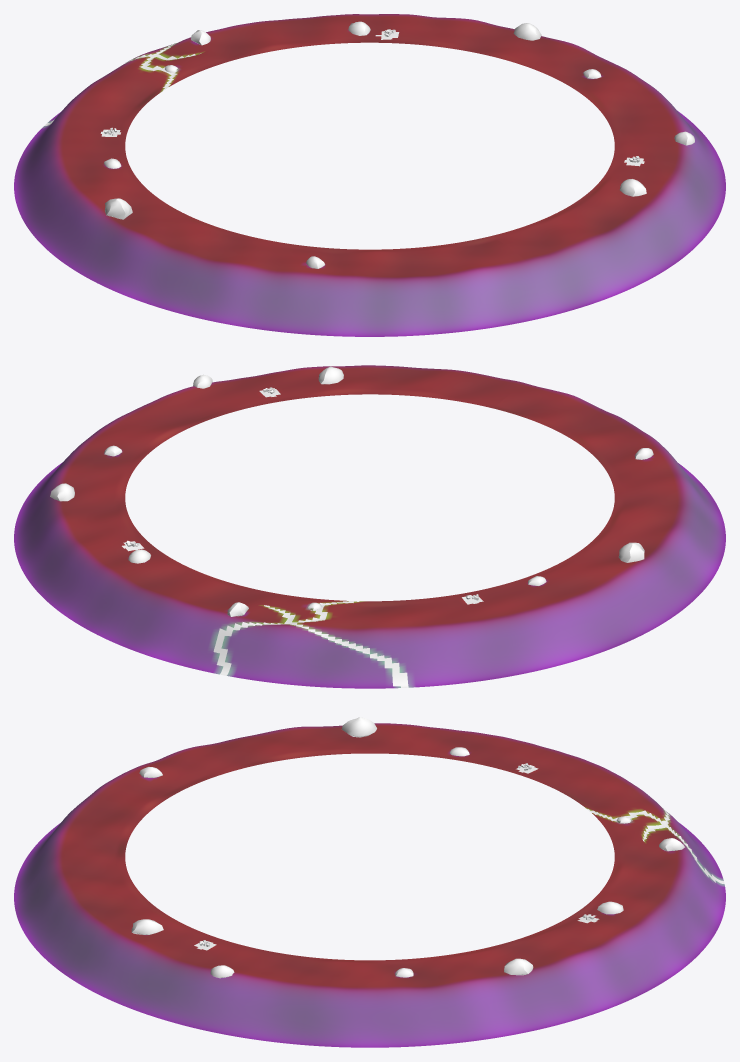
Rendered from outer-terrain.glb.
3 renders of one model, top to bottom at view 1: azimuth 30°, elevation 25°; view 2: azimuth 150°, elevation 25°; view 3: azimuth 270°, elevation 25°, orthographic.
Visible parts, largest first — view 1: outer-terrain; view 2: outer-terrain; view 3: outer-terrain.
Part boxes in pixels (left/top/right/bottom): outer-terrain: left=14, top=14, right=725, bottom=336; outer-terrain: left=14, top=365, right=725, bottom=688; outer-terrain: left=14, top=717, right=725, bottom=1047.
Bounding box in the file's own units: 96 × 8.06 × 96.
